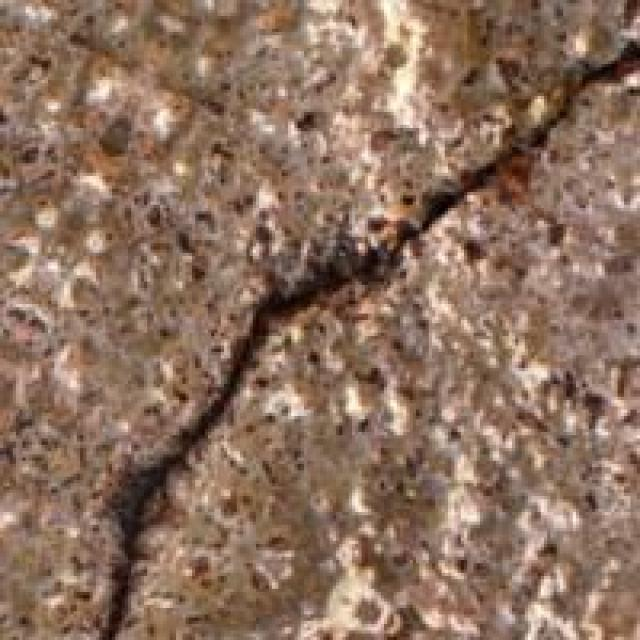Crack: (61, 32, 637, 637)
